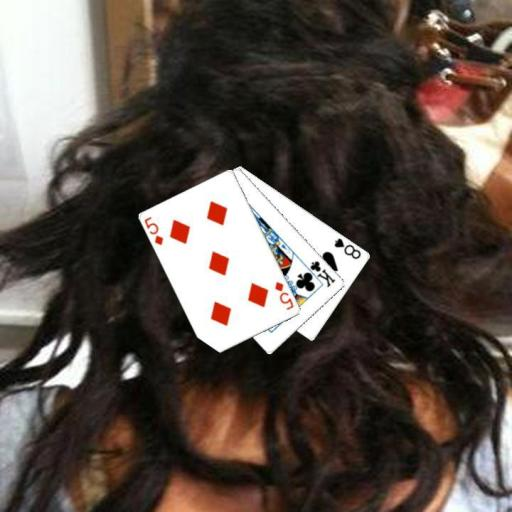5D: (272, 278, 296, 312), (141, 213, 165, 247)
8S: (331, 235, 363, 261)
KC: (302, 257, 337, 289)
